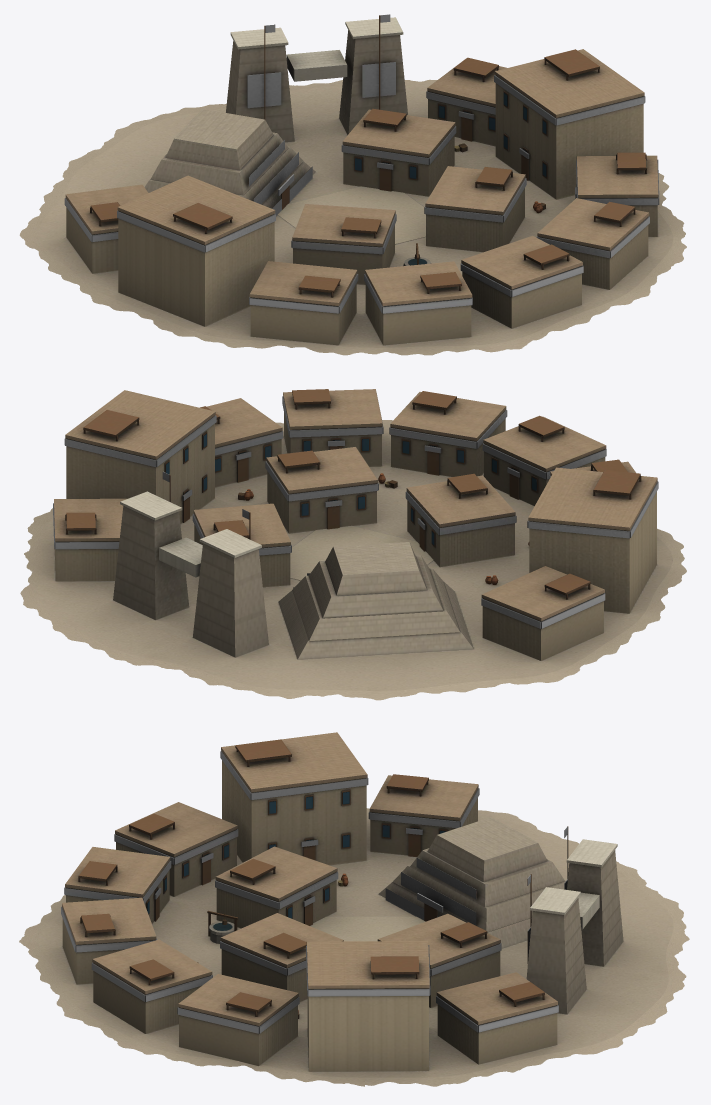
File: bronze-town-medium-b-nile-1c0aa4ed.glb
The picture shows the model from 3 angles, top to bottom: view 1: azimuth 30°, elevation 25°; view 2: azimuth 150°, elevation 25°; view 3: azimuth 270°, elevation 25°; orthographic projection.
Parts seen in each view (by area): view 1: LOD0; view 2: LOD0; view 3: LOD0.
Boxes of the visible parts, box(x1,y1,x2,y2) form: LOD0: box(19, 14, 686, 355); LOD0: box(20, 389, 686, 700); LOD0: box(19, 732, 689, 1086).
Size of what is drawn, in the model's own units: 5.91 by 1.2 by 5.97.
3 materials, 3 textured.
